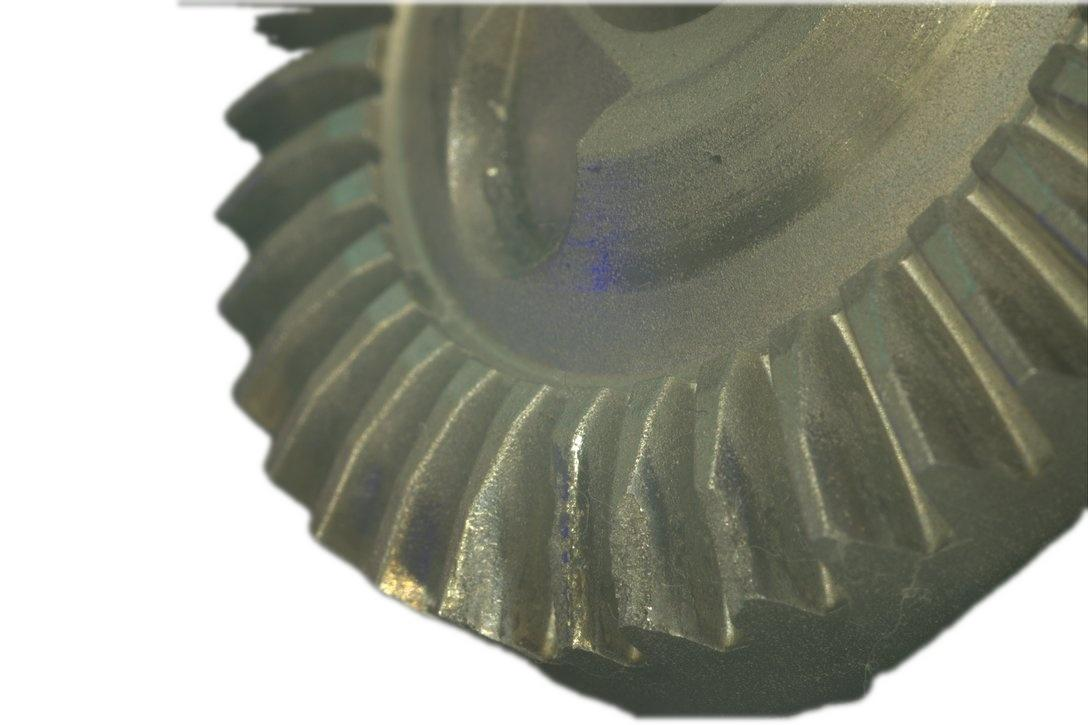defect: (609, 451, 680, 631), (693, 463, 762, 635), (435, 509, 512, 635), (553, 444, 590, 649), (379, 561, 426, 610)
